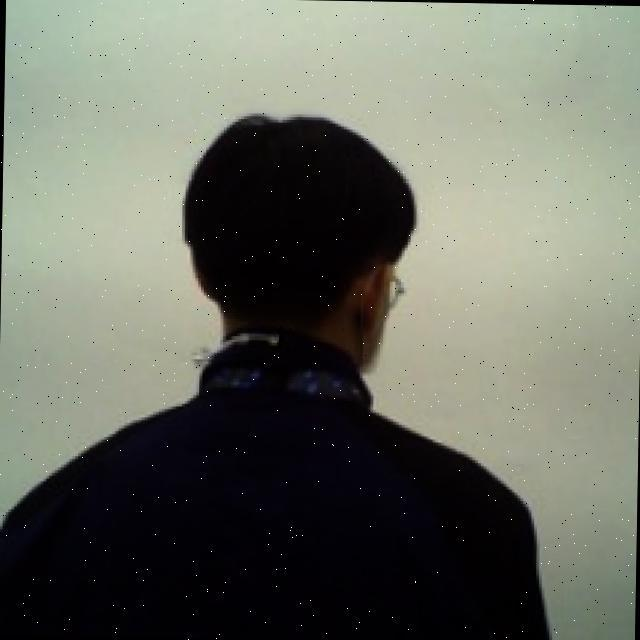no_gloves: (174, 108, 421, 360)
